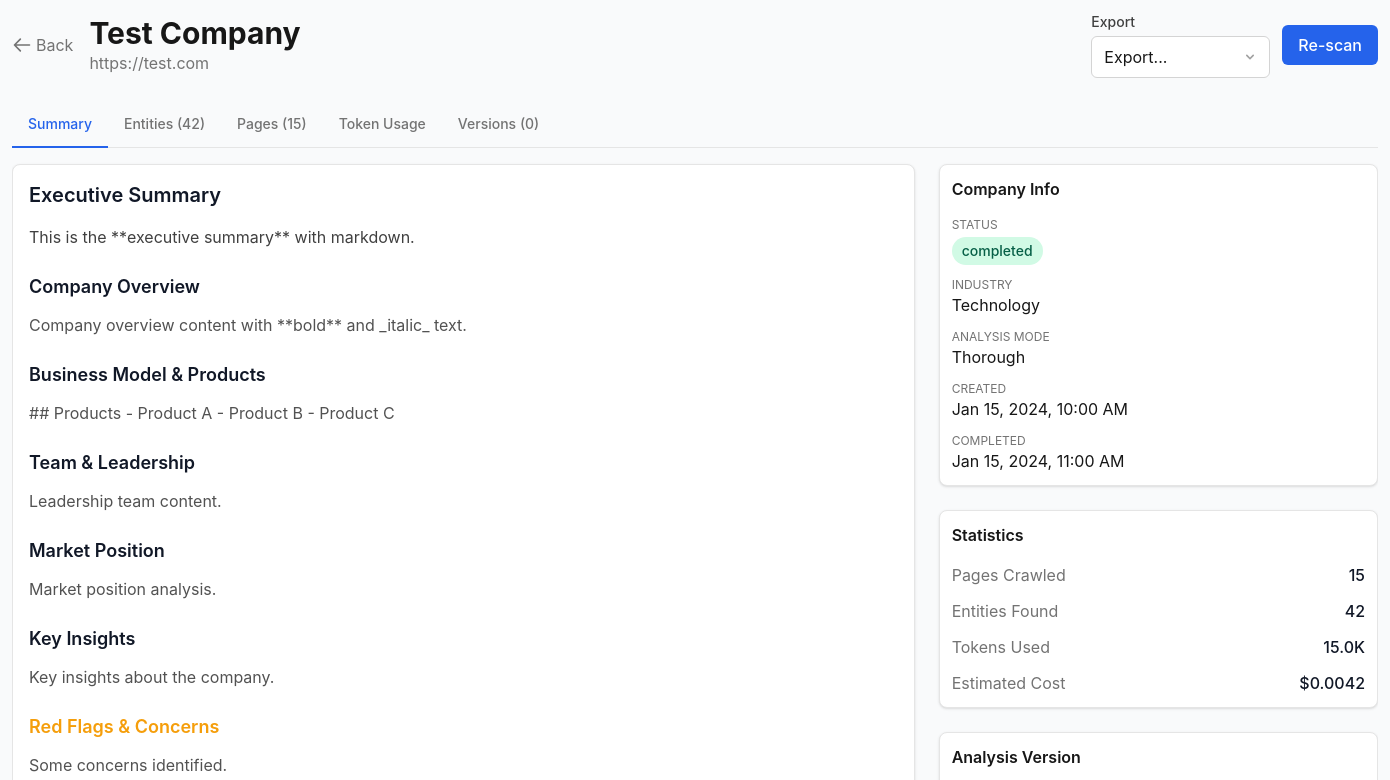
Test case: Token Counter › displays total token count
This screenshot has width=1390, height=780.
Click the tab "Token Usage" at [382, 125], box [323, 102, 442, 148]
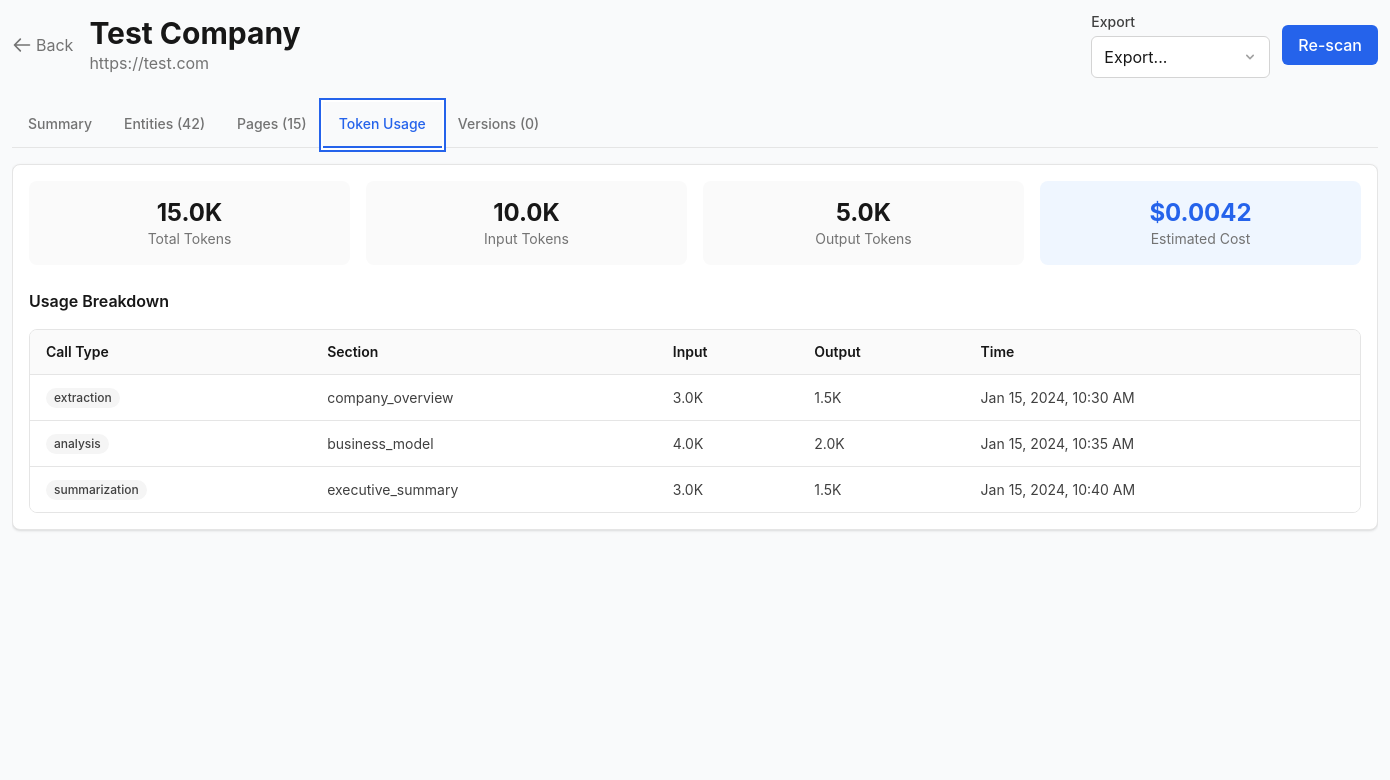
Expected: the text "15.0K" is shown, [157, 198, 222, 227]
Now the text "Total Tokens" is shown, box [148, 230, 231, 247]
